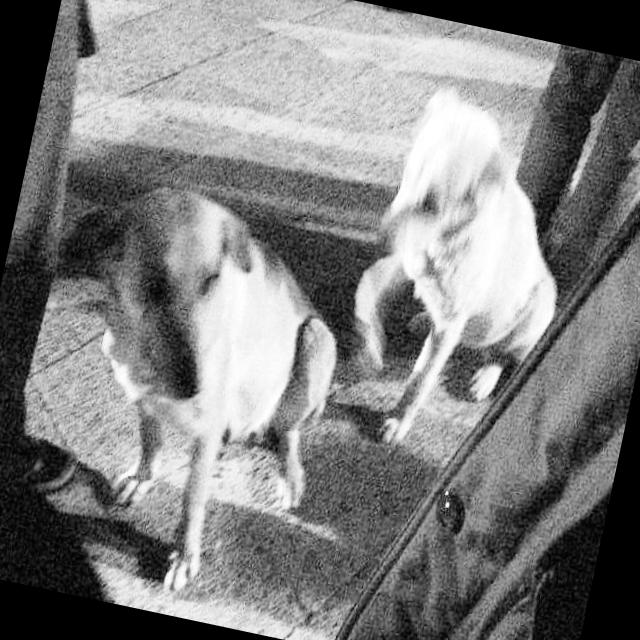Dog: (55, 167, 368, 576), (365, 53, 640, 422)
